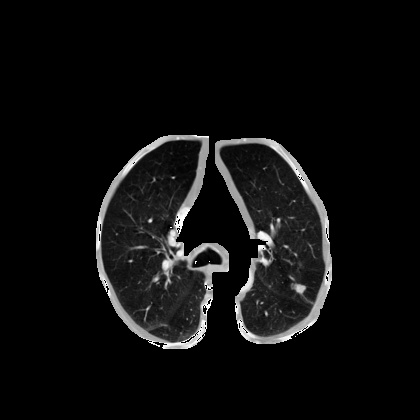PN: (293, 282, 305, 294)
